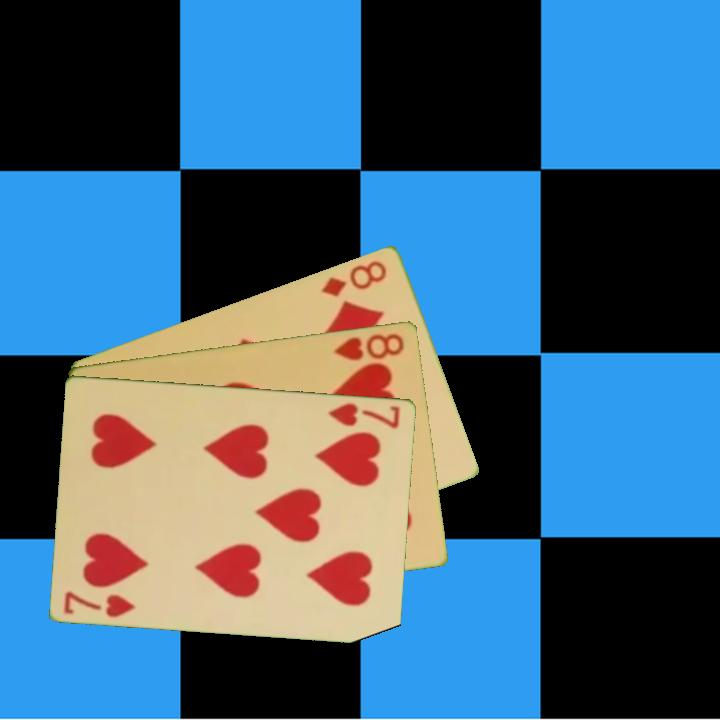7h: (61, 587, 138, 620), (325, 399, 403, 431)
8d: (318, 256, 390, 299)
8h: (331, 329, 407, 363)
